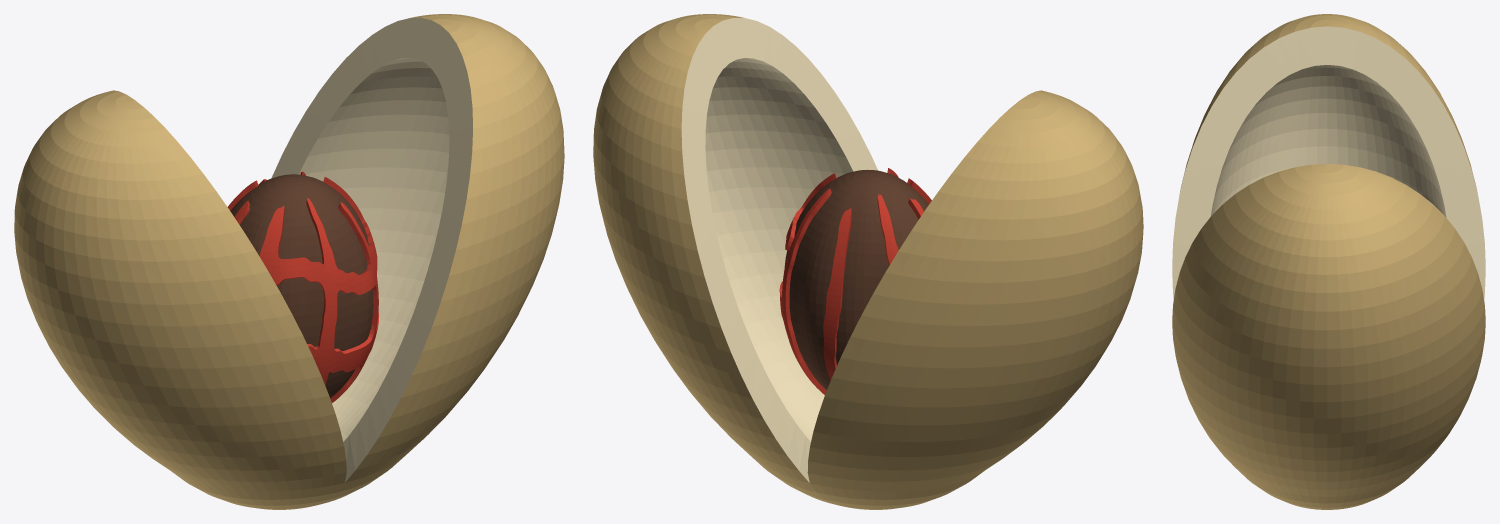
The picture shows the model from 3 angles, left to right: view 1: azimuth 30°, elevation 25°; view 2: azimuth 150°, elevation 25°; view 3: azimuth 270°, elevation 25°; orthographic projection. The views are drawn at different scales.
Parts seen in each view (by area): view 1: WholeSplayedPericarpValve_Left, WholeSplayedPericarpValve_Right, WholeOvoidHardSeed, WholeConnectedLaciniateAril; view 2: WholeSplayedPericarpValve_Left, WholeSplayedPericarpValve_Right, WholeOvoidHardSeed, WholeConnectedLaciniateAril; view 3: WholeSplayedPericarpValve_Right, WholeSplayedPericarpValve_Left.
Part boxes in pixels (box(x1,y1,x2,y2)): WholeSplayedPericarpValve_Left: box(14, 90, 346, 509); WholeSplayedPericarpValve_Right: box(271, 14, 564, 503); WholeOvoidHardSeed: box(230, 174, 373, 398); WholeConnectedLaciniateAril: box(227, 171, 378, 402); WholeSplayedPericarpValve_Left: box(807, 90, 1143, 509); WholeSplayedPericarpValve_Right: box(593, 14, 877, 503); WholeOvoidHardSeed: box(784, 169, 928, 390); WholeConnectedLaciniateAril: box(779, 168, 931, 394); WholeSplayedPericarpValve_Right: box(1172, 164, 1485, 509); WholeSplayedPericarpValve_Left: box(1172, 14, 1485, 299).
Size of the model in its own units: 0.095 by 0.076 by 0.054.
